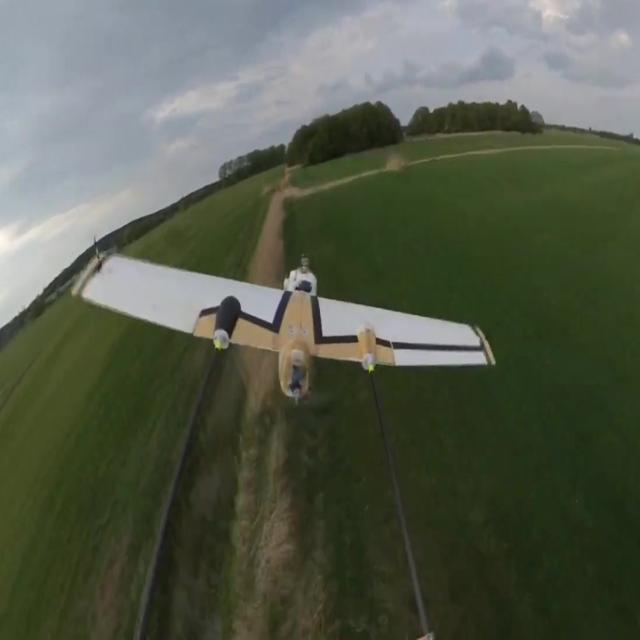iha: (69, 242, 499, 406)
